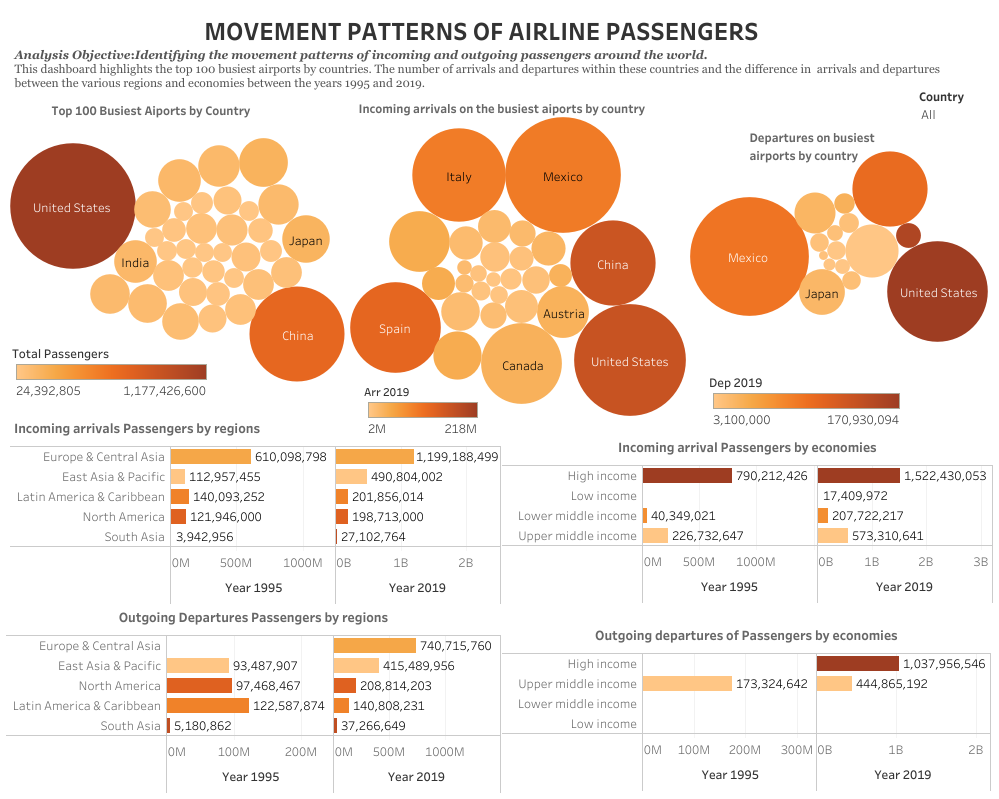

Layout of this report page (visuals, bound fields, positions):
{"tool":"tableau","page":{"name":"Movement Patterns","canvas":[1000,800],"ordinal":0},"visuals":[{"type":"title","box":[16,15,931,30]},{"type":"text","box":[12,40,969,58]},{"type":"filter","title":"bussiest airports by country","param":"[federated.0sgiu4o06g8yp211323i20kt7q5d].[none:Country:nk]","box":[919,86,80,44]},{"type":"worksheet","title":"bussiest airports by country","mark":"Circle","box":[9,92,336,346]},{"type":"text","box":[356,93,299,30]},{"type":"text","box":[49,95,211,30]},{"type":"worksheet","title":"bussiest country:departures","mark":"Circle","box":[689,97,299,365]},{"type":"worksheet","title":"bussiest country:arrival","mark":"Circle","box":[349,98,337,345]},{"type":"text","box":[747,122,174,48]},{"type":"legend","title":"bussiest airports by country","param":"[federated.0sgiu4o06g8yp211323i20kt7q5d].[sum:total_passengers:qk]","box":[12,340,199,79]},{"type":"legend","title":"bussiest country:departures","param":"[federated.0sgiu4o06g8yp211323i20kt7q5d].[sum:dep_2019:qk]","box":[709,369,195,79]},{"type":"legend","title":"bussiest country:arrival","param":"[federated.0sgiu4o06g8yp211323i20kt7q5d].[sum:arr_2019:qk]","box":[364,378,118,58]},{"type":"worksheet","title":"regions:incoming arrivals","mark":"Automatic","rows":["country_name (departures!by!region)"],"cols":["year_1995 (arrivals!by!region)","year_2019 (arrivals!by!region)"],"box":[10,412,491,194]},{"type":"worksheet","title":"economies:incoming arrival","mark":"Automatic","rows":["country_name (arrivals!by!economies)"],"cols":["year_1995 (arrivals!by!economies)","year_2019 (arrivals!by!economies)"],"box":[502,431,492,209]},{"type":"worksheet","title":"regions:outgoing departures","mark":"Automatic","rows":["country_name (departures!by!region)"],"cols":["year_1995 (departures!by!region)","year_2019 (departures!by!region)"],"box":[6,601,496,193]},{"type":"worksheet","title":"economies:outgoing departures","mark":"Automatic","rows":["country_name (arrivals!by!economies)"],"cols":["year_1995 (departures!by!economies)","year_2019 (departures!by!economies)"],"box":[502,619,490,176]}]}

Visuals, with their boxes in screenshot pixels (x1, y1, x2, y2), scaled from the page's 1000x800 canvas onto the 999x799 screenshot:
title: detection(16, 15, 946, 45)
text: detection(12, 40, 980, 98)
"bussiest airports by country" filter: detection(918, 86, 998, 130)
"bussiest airports by country" worksheet (Circle marks): detection(9, 92, 345, 437)
text: detection(356, 93, 654, 123)
text: detection(49, 95, 260, 125)
"bussiest country:departures" worksheet (Circle marks): detection(688, 97, 987, 461)
"bussiest country:arrival" worksheet (Circle marks): detection(349, 98, 685, 442)
text: detection(746, 122, 920, 170)
"bussiest airports by country" legend: detection(12, 340, 211, 418)
"bussiest country:departures" legend: detection(708, 369, 903, 447)
"bussiest country:arrival" legend: detection(364, 378, 482, 435)
"regions:incoming arrivals" worksheet: detection(10, 411, 500, 605)
"economies:incoming arrival" worksheet: detection(501, 430, 993, 639)
"regions:outgoing departures" worksheet: detection(6, 600, 501, 793)
"economies:outgoing departures" worksheet: detection(501, 618, 991, 794)
